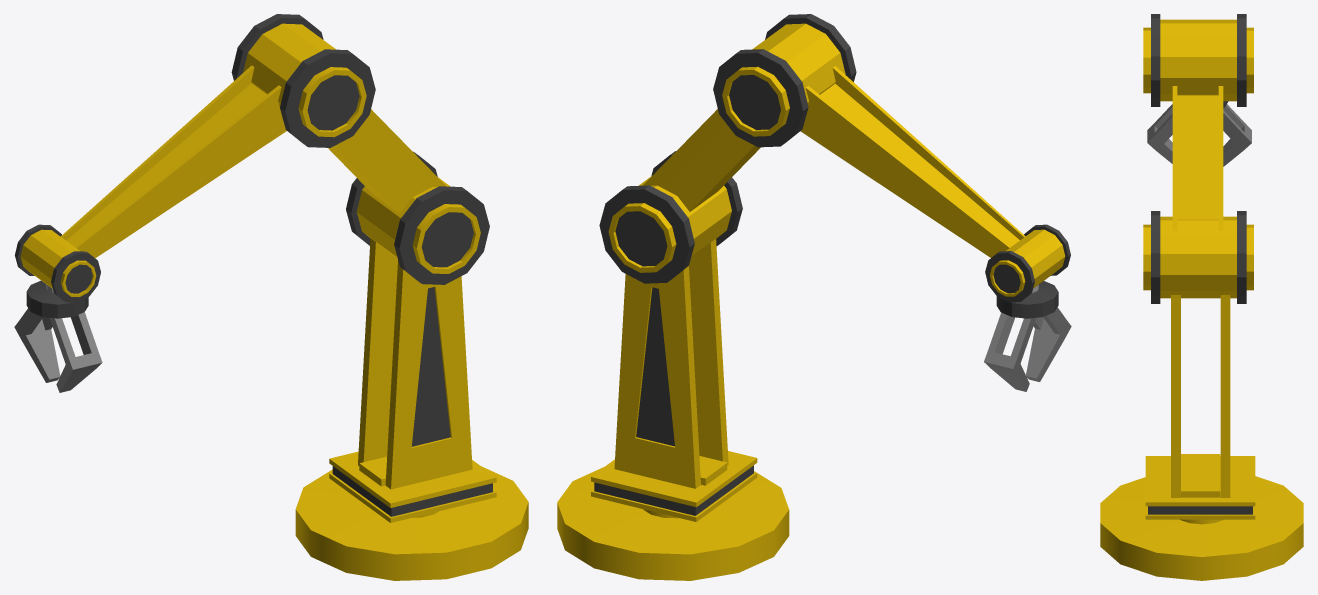
Rendered from pince_deco.fbx.
3 views of the same model, side by side, from view 1: azimuth 30°, elevation 25°; view 2: azimuth 150°, elevation 25°; view 3: azimuth 270°, elevation 25° (orthographic). The views are drawn at different scales.
Visible parts, largest first — view 1: Support, partie_2, partie_1, pince; view 2: Support, partie_2, partie_1, pince; view 3: Support, partie_1, partie_2, pince.
Part boxes in pixels (box(x1,y1,x2,y2)): Support: box(295, 238, 528, 580); partie_2: box(15, 14, 375, 302); partie_1: box(328, 109, 489, 284); pince: box(14, 280, 102, 392); Support: box(557, 239, 789, 580); partie_2: box(713, 14, 1070, 302); partie_1: box(599, 109, 760, 283); pince: box(984, 281, 1071, 391); Support: box(1100, 295, 1303, 580); partie_1: box(1143, 86, 1253, 303); partie_2: box(1143, 14, 1253, 106); pince: box(1147, 101, 1251, 166).
Size of the model in its own units: 3.37 by 3.51 by 1.38.
